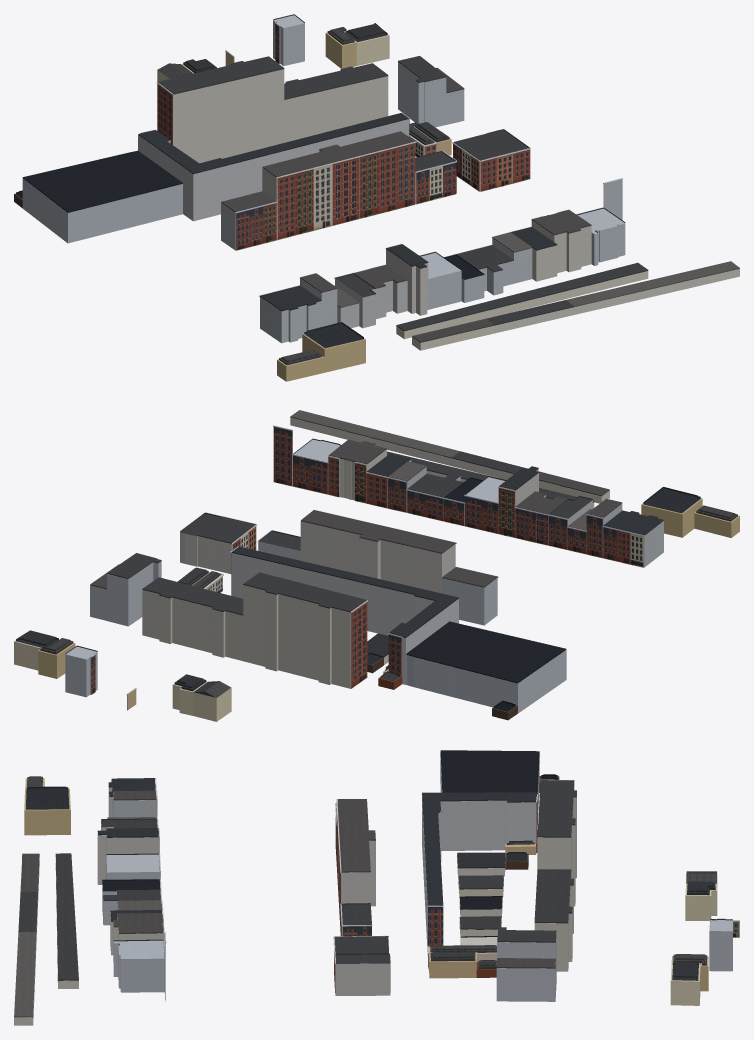
The picture shows the model from 3 angles, top to bottom: view 1: azimuth 30°, elevation 25°; view 2: azimuth 150°, elevation 25°; view 3: azimuth 270°, elevation 25°; orthographic projection. The views are drawn at different scales.
Visible parts, largest first — view 1: bldg_516863539, bldg_516863534, bldg_516863535_roof, bldg_516863535, bldg_516863541, bldg_516863524_facade2, bldg_516863524_facade0, bldg_516863534_roof, bldg_517168268_roof, bldg_516859658, bldg_516863524_roof, bldg_517168268 (+41 smaller); view 2: bldg_516863539, bldg_516863524, bldg_516863534, bldg_516863535_roof, bldg_516863535, bldg_516863541, bldg_516863534_roof, bldg_516863524_roof, bldg_516859658, bldg_516863539_roof, bldg_516863523, bldg_516863541_roof (+43 smaller); view 3: bldg_516863534, bldg_516863535_roof, bldg_516863534_roof, bldg_517168311, bldg_517168268_roof, bldg_516863524_roof, bldg_516863539_roof, bldg_516859660, bldg_516863541_roof, bldg_516859653, bldg_517168274_roof, bldg_516863539 (+31 smaller).
Boxes of the visible parts, x1,y1,x2,y2 form: bldg_516863539: (173,69,284,163); bldg_516863534: (138,119,408,221); bldg_516863535_roof: (22,150,182,212); bldg_516863535: (22,178,182,243); bldg_516863541: (284,76,388,142); bldg_516863524_facade2: (360,141,416,218); bldg_516863524_facade0: (276,163,332,240); bldg_516863534_roof: (138,113,408,174); bldg_517168268_roof: (396,262,648,331); bldg_516859658: (398,62,446,127); bldg_516863524_roof: (262,131,415,177); bldg_517168268: (396,271,648,339); bldg_516863539: (243,585,350,688); bldg_516863524: (300,521,455,593); bldg_516863534: (231,553,458,684); bldg_516863535_roof: (406,621,566,683); bldg_516863535: (406,650,566,713); bldg_516863541: (142,589,243,660); bldg_516863534_roof: (232,546,458,637); bldg_516863524_roof: (301,510,455,553); bldg_516859658: (107,561,161,626); bldg_516863539_roof: (243,572,366,612); bldg_516863523: (442,578,497,625); bldg_516863541_roof: (142,577,243,615); bldg_516863534: (422,795,536,955); bldg_516863535_roof: (440,750,539,795); bldg_516863534_roof: (422,792,536,905); bldg_517168311: (113,940,164,992); bldg_517168268_roof: (55,853,78,980); bldg_516863524_roof: (337,799,375,872); bldg_516863539_roof: (537,780,576,837); bldg_516859660: (496,962,555,1001); bldg_516863541_roof: (534,869,573,923); bldg_516859653: (335,958,390,995); bldg_517168274_roof: (14,932,36,1017); bldg_516863539: (537,786,576,906).
Bounding box in the file's own units: 199 × 31.48 × 252.
Materials: 45 (29 with a texture image).
